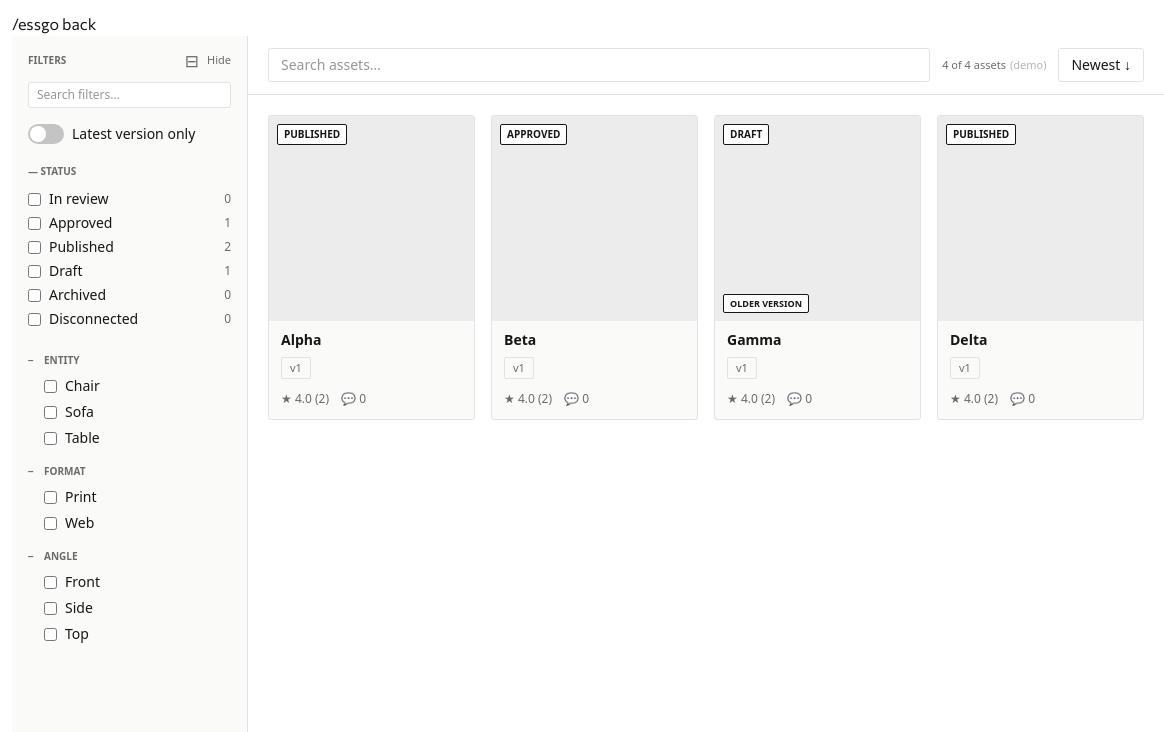
Scenario: interaction writes the URL › a tag checkbox lands in the query string
Click the checkbox labelled "Sofa" at x=50, y=412, box [44, 406, 57, 418]
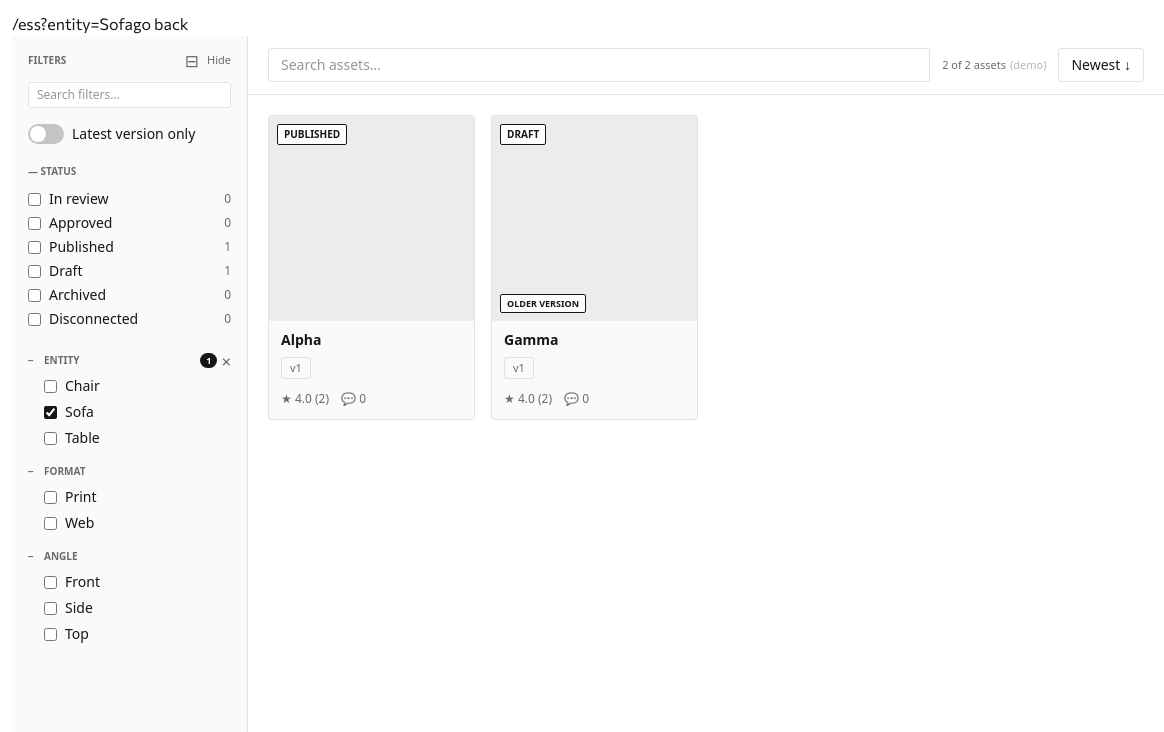
Check: the text with test id "url" reads "/ess?entity=Sofa", box [12, 14, 133, 33]
